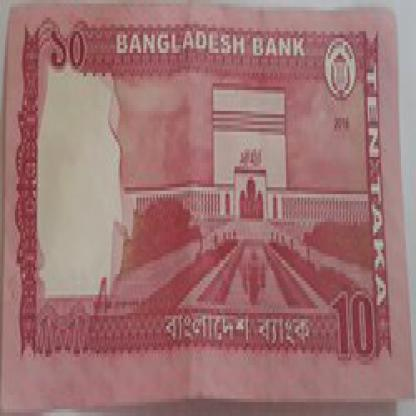Ten Taka: (40, 17, 116, 97), (328, 267, 376, 364)
